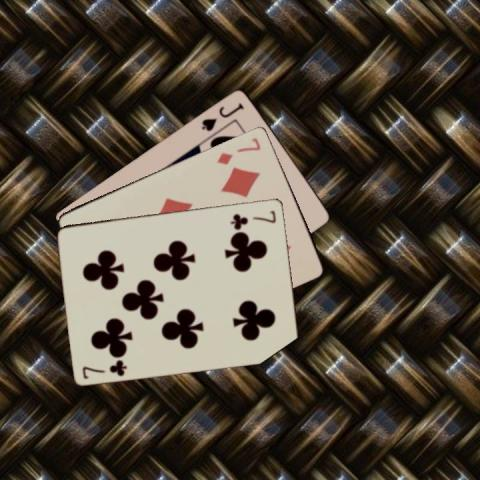7c: (79, 357, 128, 380), (228, 207, 278, 229)
7d: (214, 134, 262, 166)
Js: (198, 98, 246, 132)
